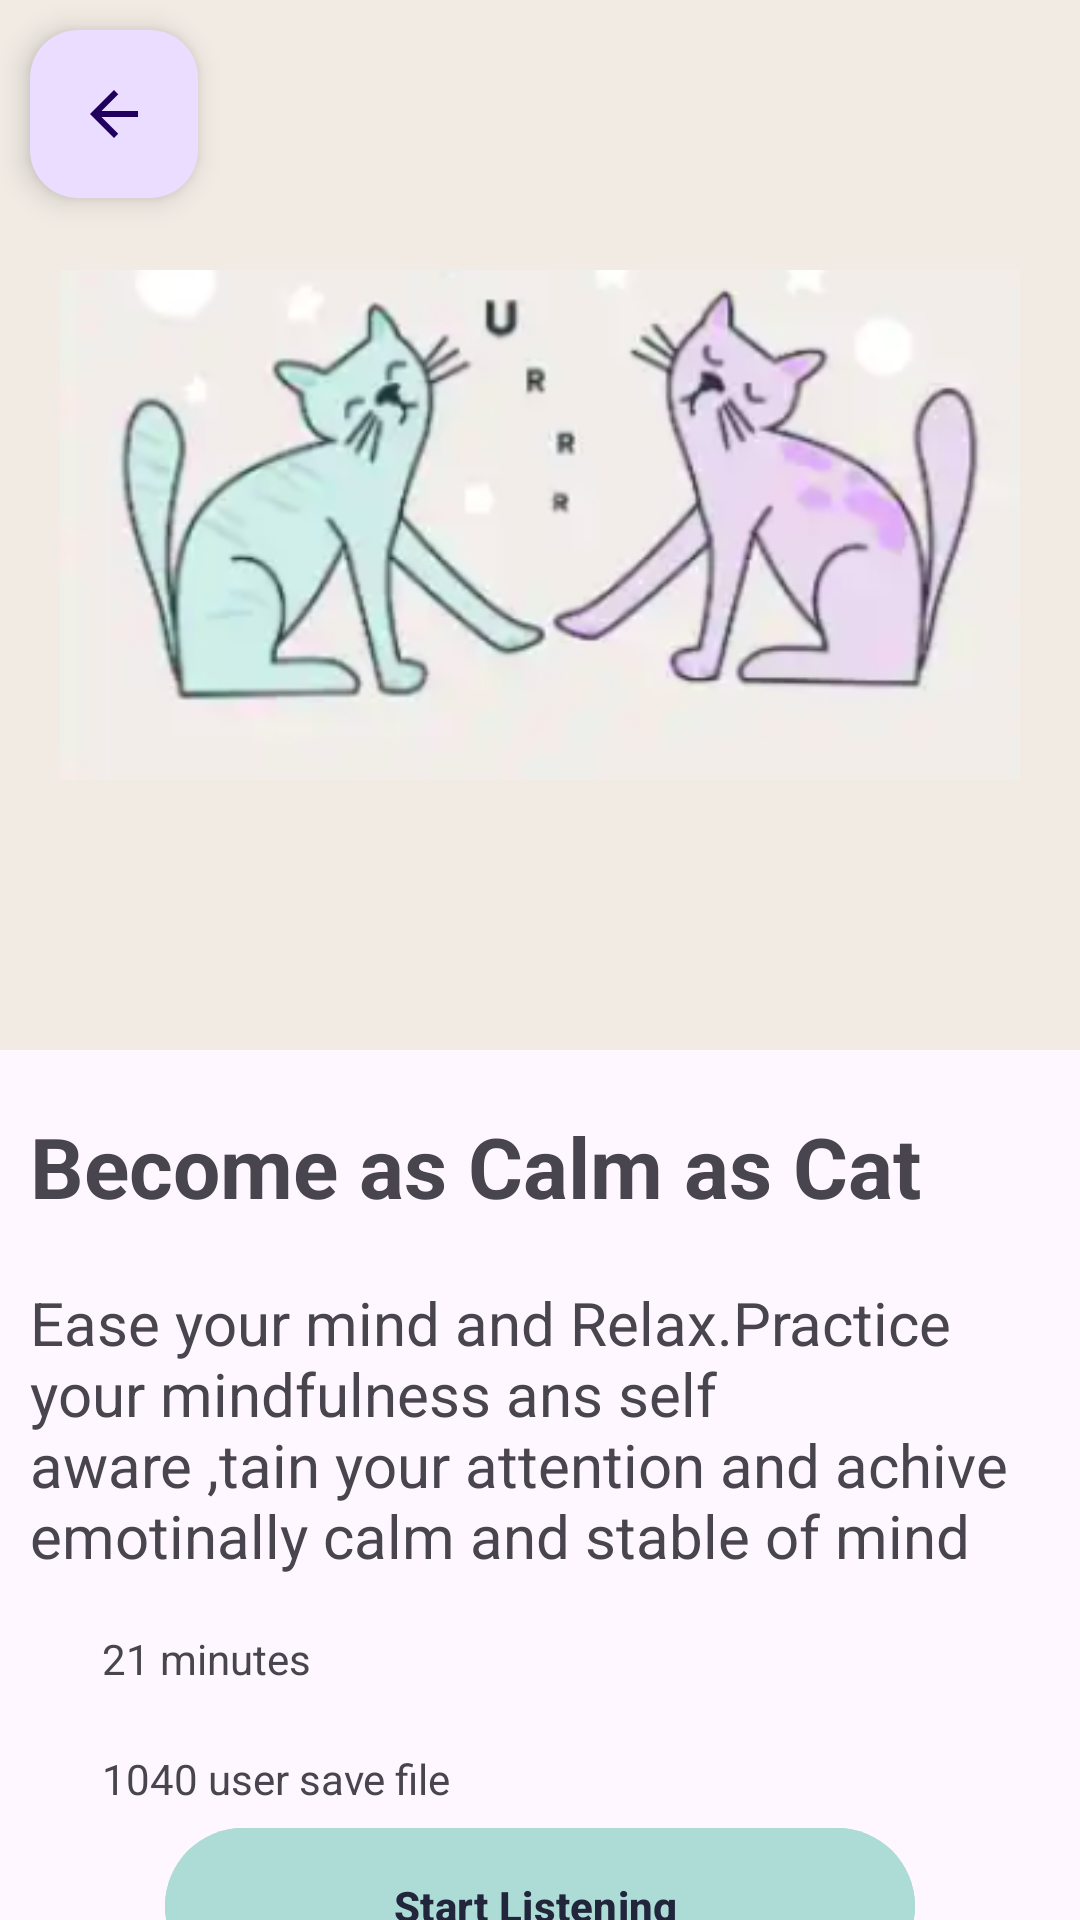

Screen size 1080w x 1920h. Icon name, then its center in pixels as (x=x, y=y):
Go Back: (x=114, y=114)
